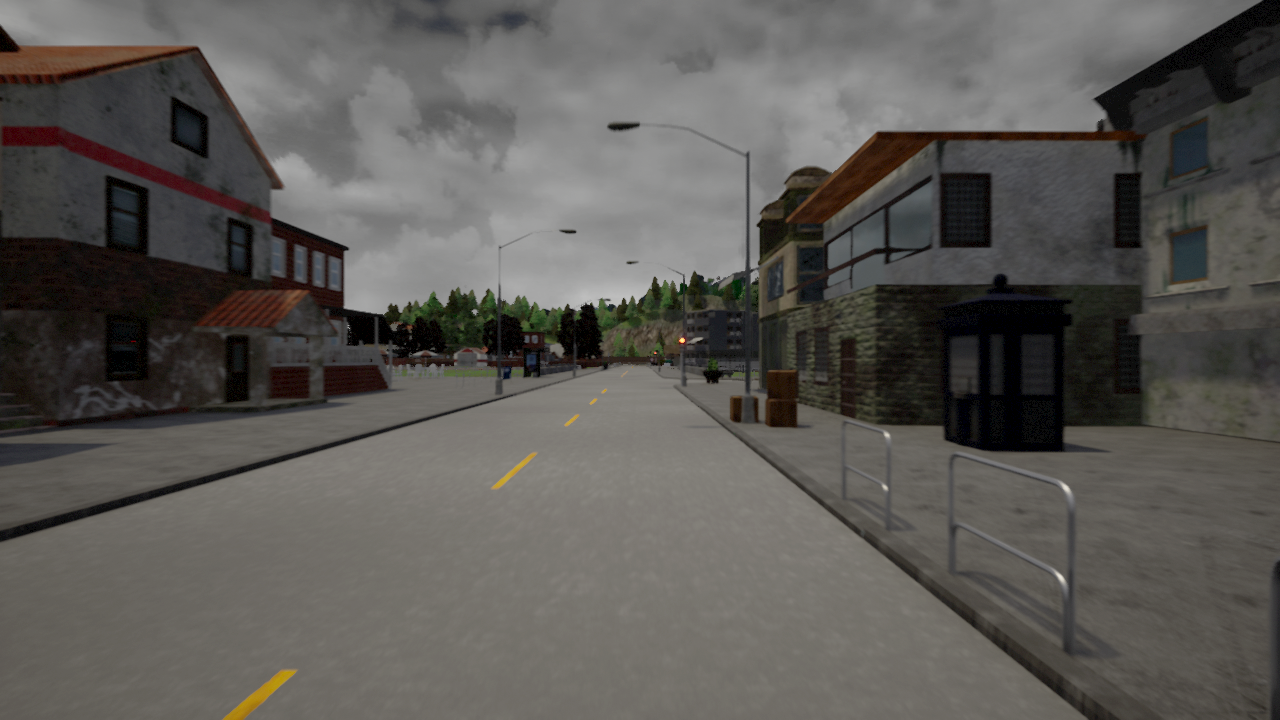red: (679, 335, 685, 355)
